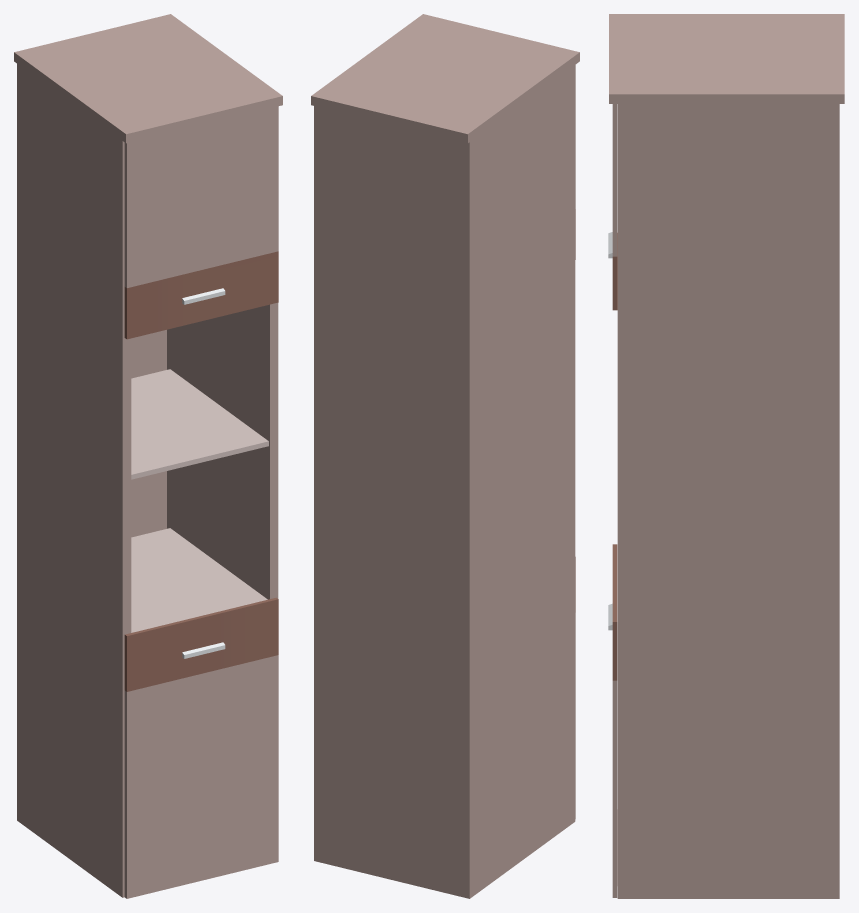
Rendered from closet_018.glb.
The picture shows the model from 3 angles, left to right: view 1: azimuth 30°, elevation 25°; view 2: azimuth 150°, elevation 25°; view 3: azimuth 270°, elevation 25°; orthographic projection. The views are drawn at different scales.
Parts seen in each view (by area): view 1: closet_018; view 2: closet_018; view 3: closet_018.
Part boxes in pixels (bbox=[...]): closet_018: bbox=[14, 14, 282, 898]; closet_018: bbox=[311, 14, 579, 898]; closet_018: bbox=[608, 14, 844, 898].
Size of the model in its own units: 0.4639 by 2.17 by 0.5761.
1 material, 1 textured.
